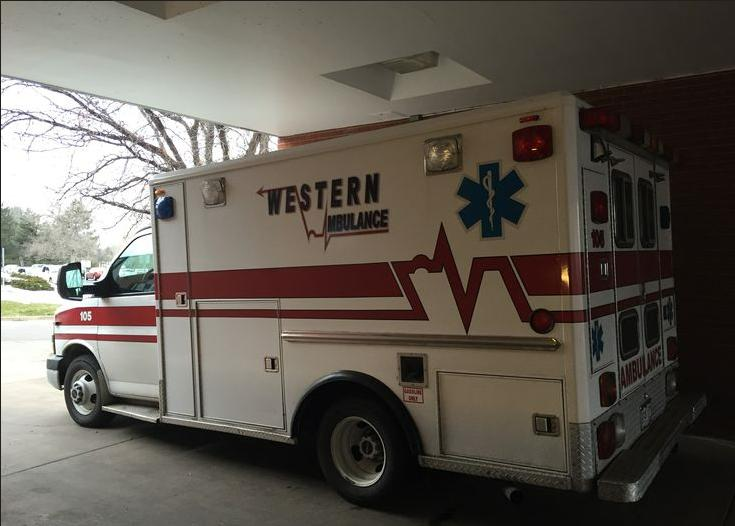ambulance_off: (46, 93, 709, 526)
